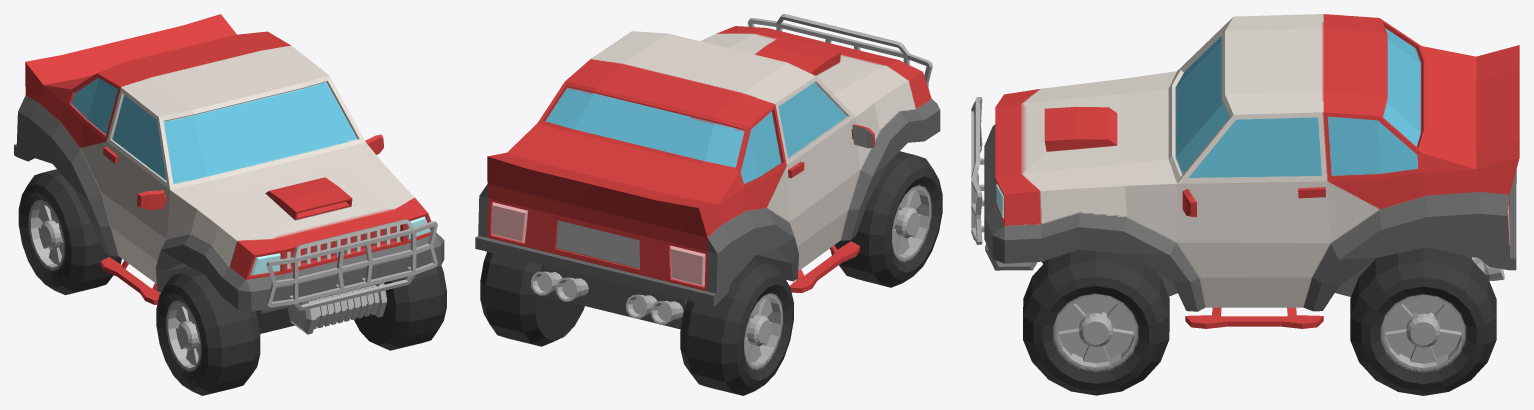
Rendered from BigJeep.fbx.
3 renders of one model, left to right at view 1: azimuth 30°, elevation 25°; view 2: azimuth 150°, elevation 25°; view 3: azimuth 270°, elevation 25°, orthographic. The views are drawn at different scales.
Visible parts, largest first — view 1: body_car_1, rightWheel, wheel_1, leftWheel; view 2: body_car_1, wheel_1, rightWheel, breakLights; view 3: body_car_1, wheel_1, leftWheel.
Boxes of the visible parts, left/top/right/bottom form: body_car_1: left=14, top=14, right=444, bottom=334; rightWheel: left=156, top=269, right=260, bottom=395; wheel_1: left=18, top=169, right=121, bottom=294; leftWheel: left=354, top=265, right=446, bottom=350; body_car_1: left=475, top=14, right=940, bottom=329; wheel_1: left=480, top=251, right=793, bottom=395; rightWheel: left=831, top=151, right=942, bottom=287; breakLights: left=492, top=202, right=705, bottom=286; body_car_1: left=971, top=14, right=1519, bottom=328; wheel_1: left=1350, top=247, right=1496, bottom=395; leftWheel: left=1023, top=249, right=1169, bottom=395.
Size of the model in its own units: 191 by 172 by 313.
1 material, 1 textured.
